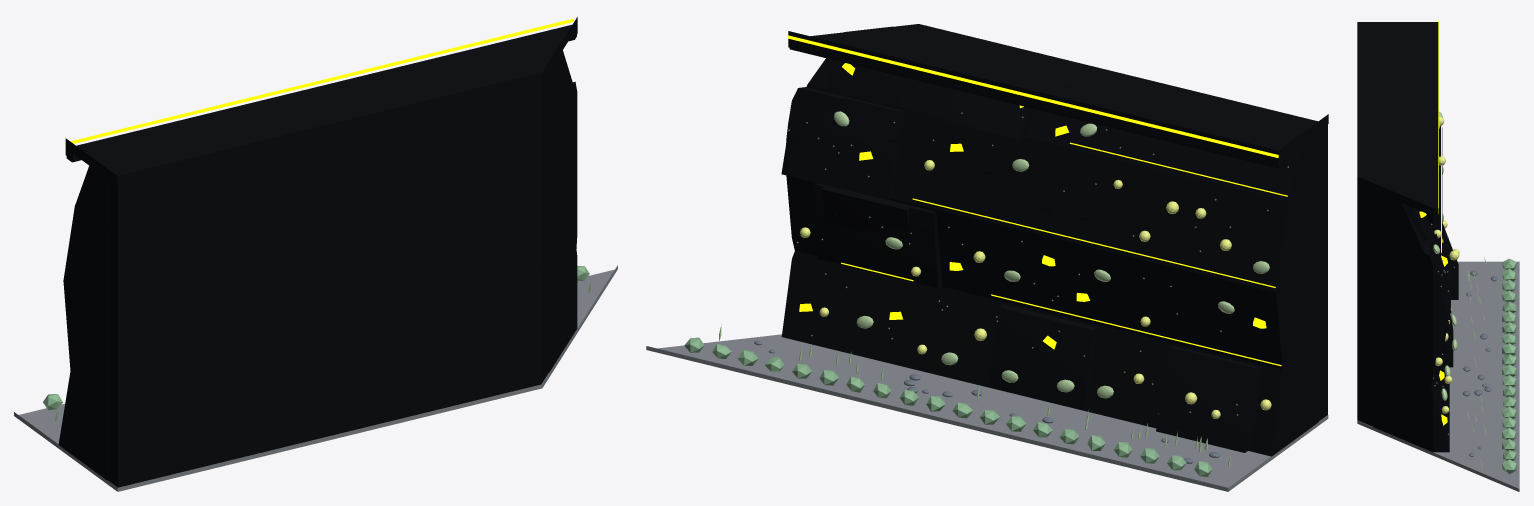
File: tt_plinth_skirt_terrace_mitre_s.glb
3 views of the same model, side by side, from view 1: azimuth 30°, elevation 25°; view 2: azimuth 150°, elevation 25°; view 3: azimuth 270°, elevation 25° (orthographic). The views are drawn at different scales.
Parts seen in each view (by area): view 1: Skirt_Core, Cap_Course, Course3_Facets, Course1_Facets, Course0_Facets, Course2_Facets, Base_Mat, Cap_Court_Line; view 2: Course2_Facets, Course0_Facets, Course1_Facets, Course3_Facets, Base_Mat, Cap_Course, Moss_Edge, Skirt_Core, Sloper_Holds, Cap_Court_Line, Seam_Tape, Tennis_Ball_Holds (+2 smaller); view 3: Base_Mat, Cap_Course, Course3_Facets, Course0_Facets, Course2_Facets, Course1_Facets, Skirt_Core, Moss_Edge, Tennis_Ball_Holds, River_Stones, Sloper_Holds, Grass_Tufts (+2 smaller).
Part boxes in pixels (x1,y1,x2,y2): Skirt_Core: (107,72,548,487); Cap_Course: (65,17,577,185); Course3_Facets: (75,50,572,228); Course1_Facets: (63,162,577,399); Course0_Facets: (58,249,577,480); Course2_Facets: (63,81,577,313); Base_Mat: (14,265,617,491); Cap_Court_Line: (65,18,573,145); Course2_Facets: (781,84,1318,292); Course0_Facets: (781,251,1318,456); Course1_Facets: (786,175,1318,369); Course3_Facets: (808,26,1318,201); Base_Mat: (646,334,1328,491); Cap_Course: (788,24,1328,166); Moss_Edge: (684,337,1212,476); Skirt_Core: (1318,124,1327,421); Sloper_Holds: (833,111,1269,398); Cap_Court_Line: (788,35,1278,157); Seam_Tape: (841,142,1287,366); Tennis_Ball_Holds: (800,160,1271,418); Base_Mat: (1357,261,1519,491); Cap_Course: (1357,22,1438,221); Course3_Facets: (1373,22,1428,250); Course0_Facets: (1373,223,1458,452); Course2_Facets: (1373,126,1450,321); Course1_Facets: (1373,128,1450,387); Skirt_Core: (1357,184,1373,426); Moss_Edge: (1502,258,1516,474); Tennis_Ball_Holds: (1434,116,1459,413); River_Stones: (1462,270,1497,456); Sloper_Holds: (1433,111,1457,400); Grass_Tufts: (1466,257,1486,467).
Size of what is drawn, in the model's own units: 7.39 by 3.7 by 2.2.
8 materials, 3 textured.
